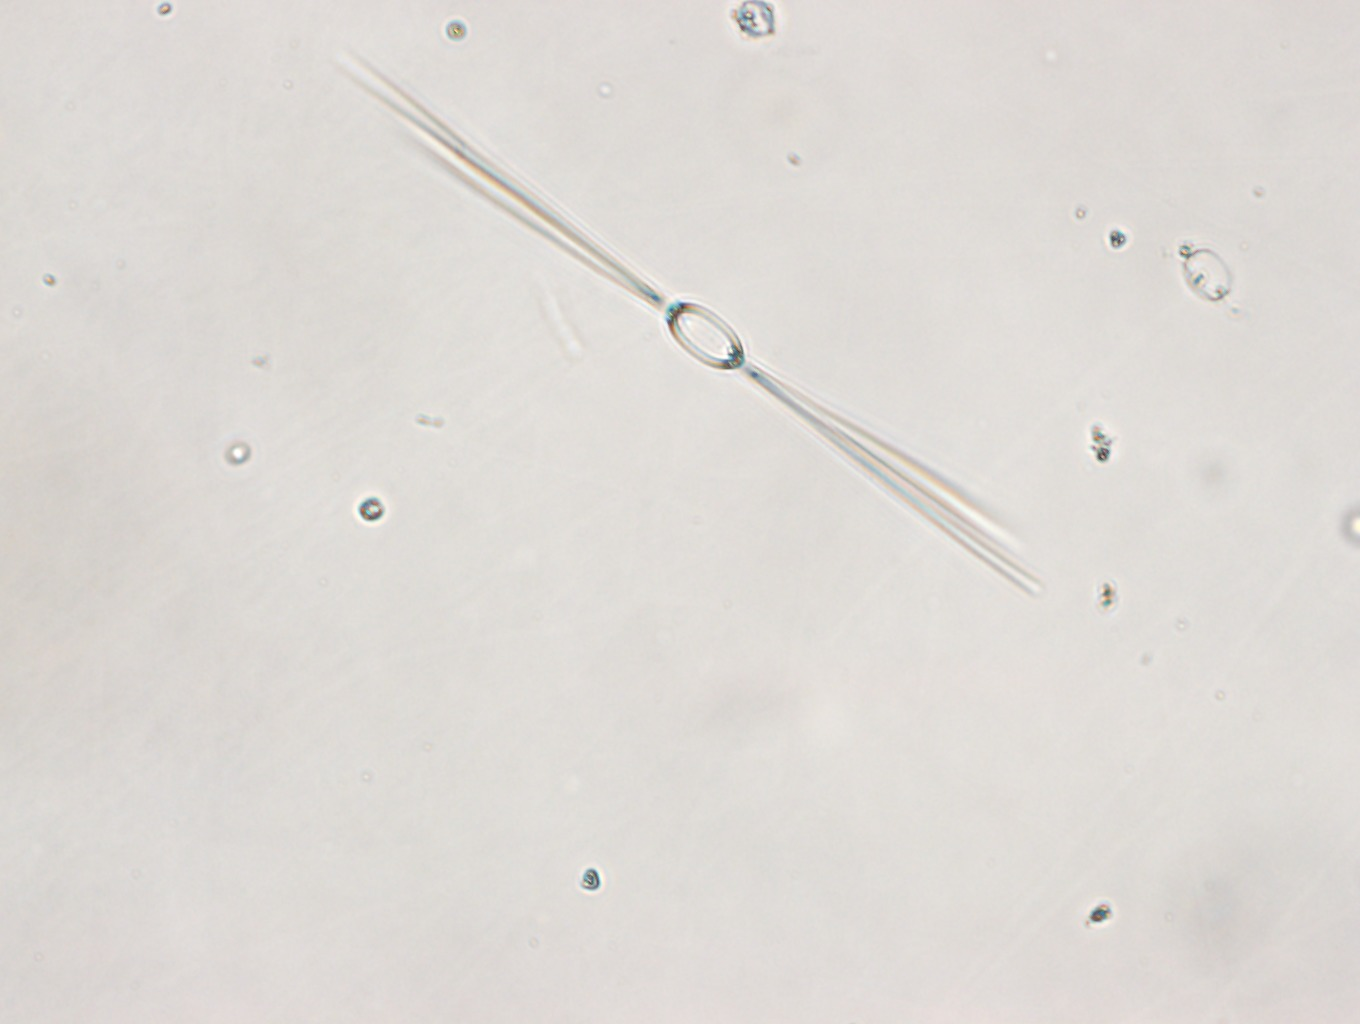chaetoceros: (334, 65, 1059, 599)
